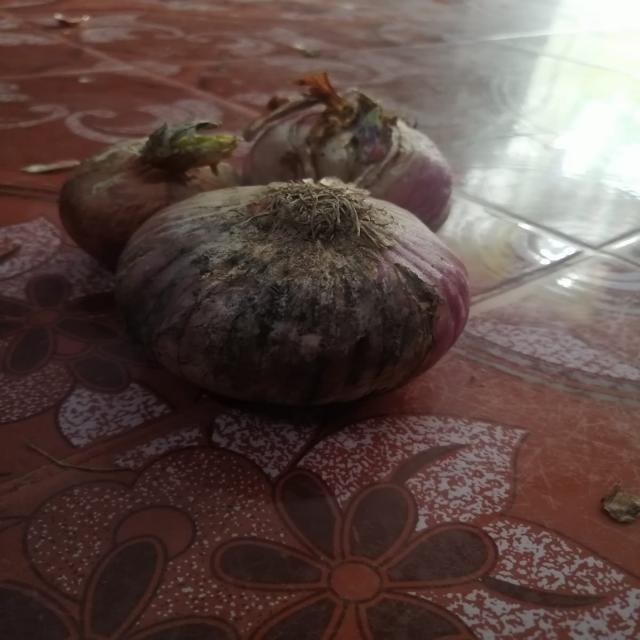rotten: (151, 254, 430, 374), (288, 100, 387, 179)
sprouting: (142, 130, 230, 170)
